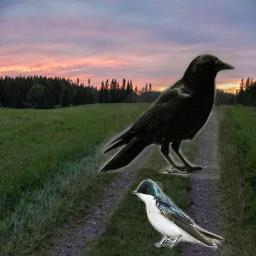Crow: (96, 50, 237, 179)
Swallow: (132, 178, 225, 250)
